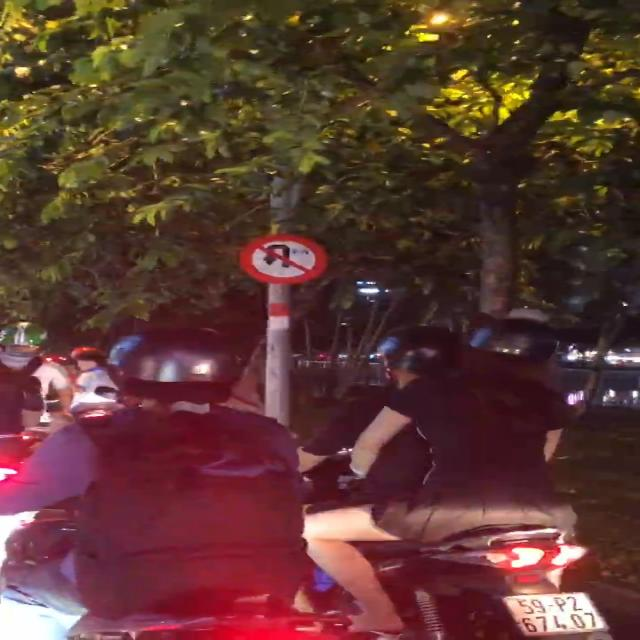Bien bao cam quay dau xe: (236, 232, 328, 288)
